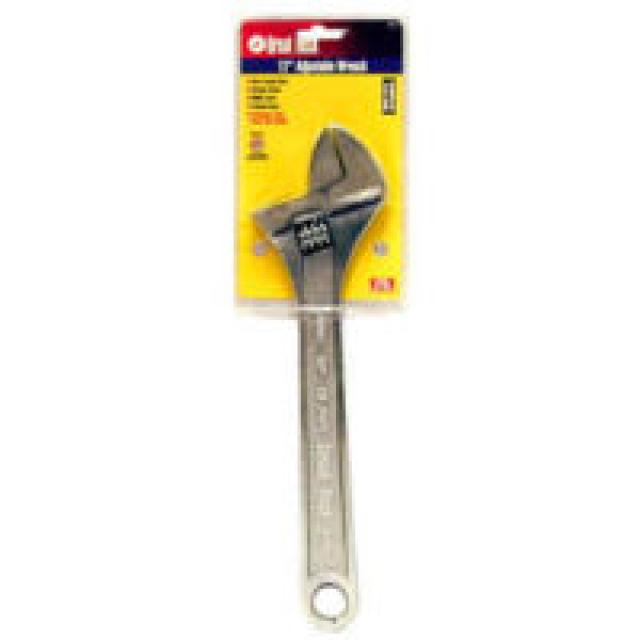wrench: (237, 111, 418, 630)
